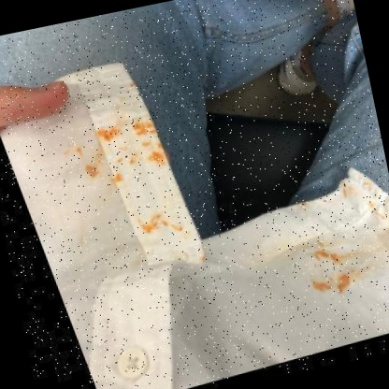kimchi: (94, 113, 164, 188), (137, 211, 186, 243), (309, 270, 358, 300), (314, 242, 353, 271), (369, 198, 389, 224), (80, 160, 103, 182), (66, 143, 88, 162), (310, 235, 328, 253), (340, 185, 358, 201), (361, 176, 375, 190), (197, 251, 210, 263), (299, 200, 313, 210), (318, 197, 329, 206), (387, 216, 389, 235)
